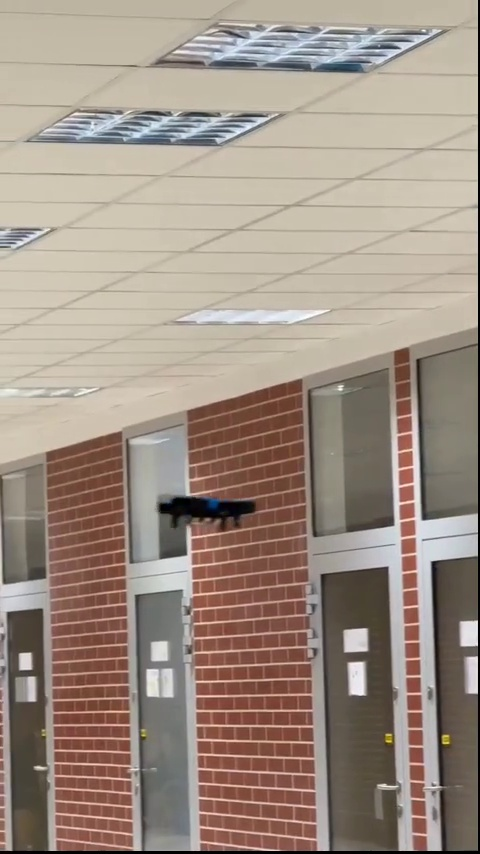drone: (157, 490, 251, 527)
